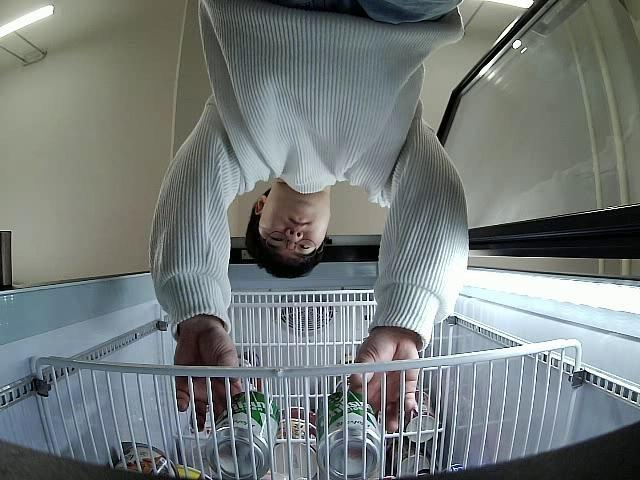12_chilsungCider: (205, 391, 279, 480), (316, 389, 386, 480)
